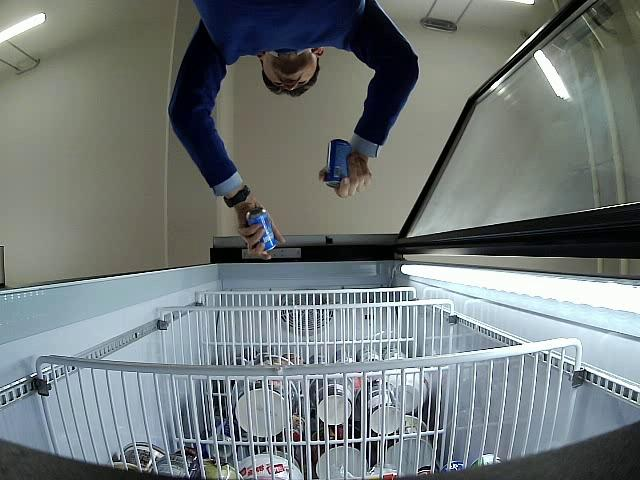00_hand: (237, 203, 286, 260), (320, 155, 374, 198)
15_letsbe: (246, 208, 279, 252), (324, 139, 353, 189)
